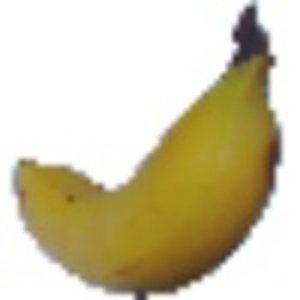banana: (8, 9, 291, 297)
